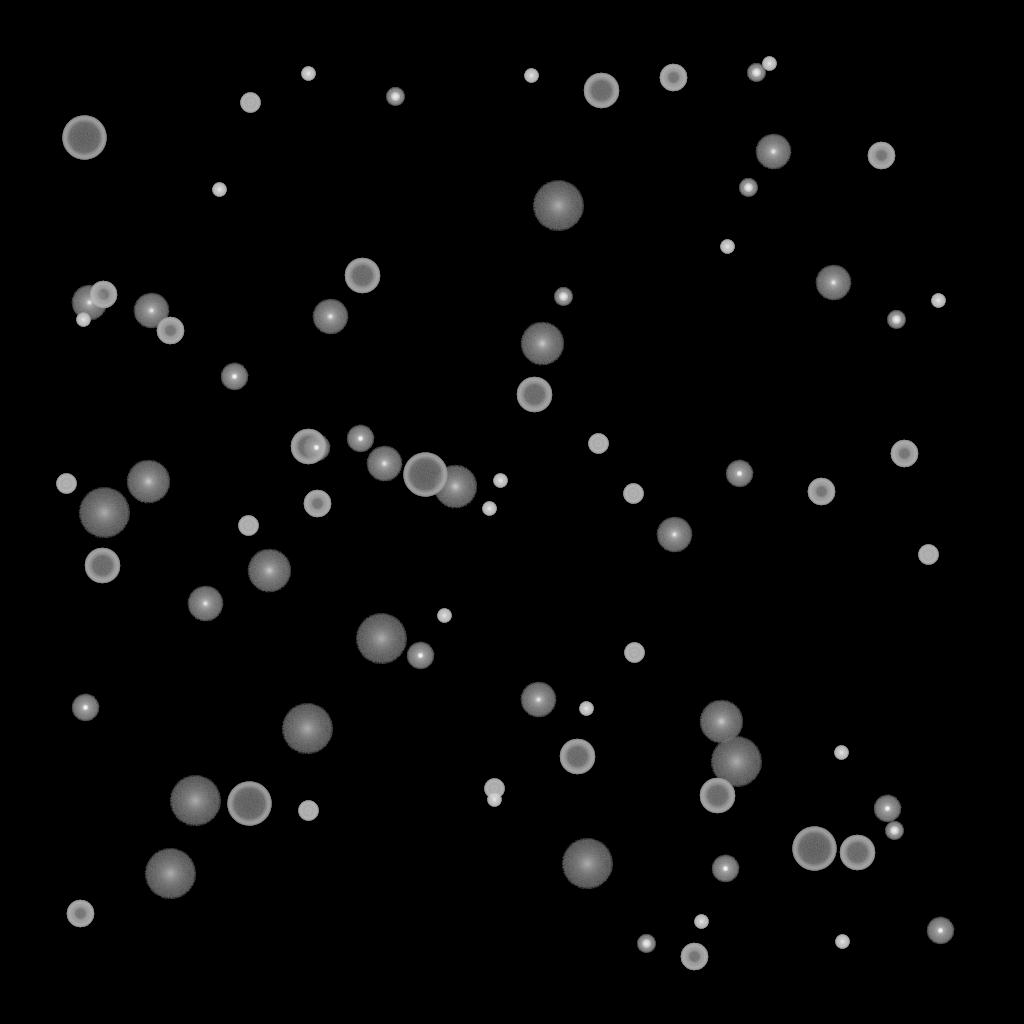depth:-10: (406, 642, 434, 670), (926, 917, 954, 945), (711, 855, 739, 883), (725, 460, 753, 488), (220, 363, 248, 391), (873, 795, 901, 823), (302, 434, 330, 462), (71, 694, 99, 722), (346, 425, 374, 453)
depth:-20: (554, 288, 572, 306), (747, 64, 765, 82), (386, 88, 404, 106), (887, 311, 905, 329), (739, 179, 757, 197), (637, 935, 655, 953), (885, 822, 903, 840)
depth:-30: (493, 474, 507, 488), (835, 935, 849, 949), (482, 502, 496, 516), (301, 67, 315, 81), (834, 746, 848, 760), (487, 793, 501, 807), (76, 313, 90, 327), (579, 702, 593, 716), (931, 294, 945, 308), (720, 240, 734, 254), (694, 915, 708, 929), (212, 183, 226, 197), (437, 609, 451, 623), (762, 57, 776, 71), (524, 69, 538, 83)
depth:-40: (298, 801, 318, 821), (238, 516, 258, 536), (624, 643, 644, 663), (918, 545, 938, 565), (588, 434, 608, 454), (484, 779, 504, 799), (240, 93, 260, 113), (623, 484, 643, 504), (56, 474, 76, 494)
depth:-50: (807, 478, 835, 506), (303, 490, 331, 518), (659, 64, 687, 92), (89, 281, 117, 309), (680, 943, 708, 971), (890, 440, 918, 468), (156, 317, 184, 345), (66, 900, 94, 928), (867, 142, 895, 170)
depth:-60: (290, 429, 326, 465), (559, 739, 595, 775), (516, 377, 552, 413), (839, 835, 875, 871), (583, 73, 619, 109), (84, 548, 120, 584), (344, 258, 380, 294), (699, 778, 735, 814)
depth:-70: (792, 827, 836, 871), (403, 453, 447, 497), (227, 782, 271, 826), (62, 116, 106, 160)
depth:0: (520, 682, 556, 718), (71, 285, 107, 321), (366, 446, 402, 482), (312, 299, 348, 335), (755, 134, 791, 170), (815, 265, 851, 301), (187, 586, 223, 622), (656, 517, 692, 553), (133, 293, 169, 329)
depth:10: (520, 322, 564, 366), (433, 465, 477, 509), (699, 700, 743, 744), (247, 549, 291, 593), (126, 460, 170, 504)
depth:20: (355, 614, 407, 664), (561, 839, 613, 889), (281, 704, 333, 754), (532, 181, 584, 231), (710, 737, 762, 787), (78, 488, 130, 538), (169, 776, 221, 826), (144, 849, 196, 899)
